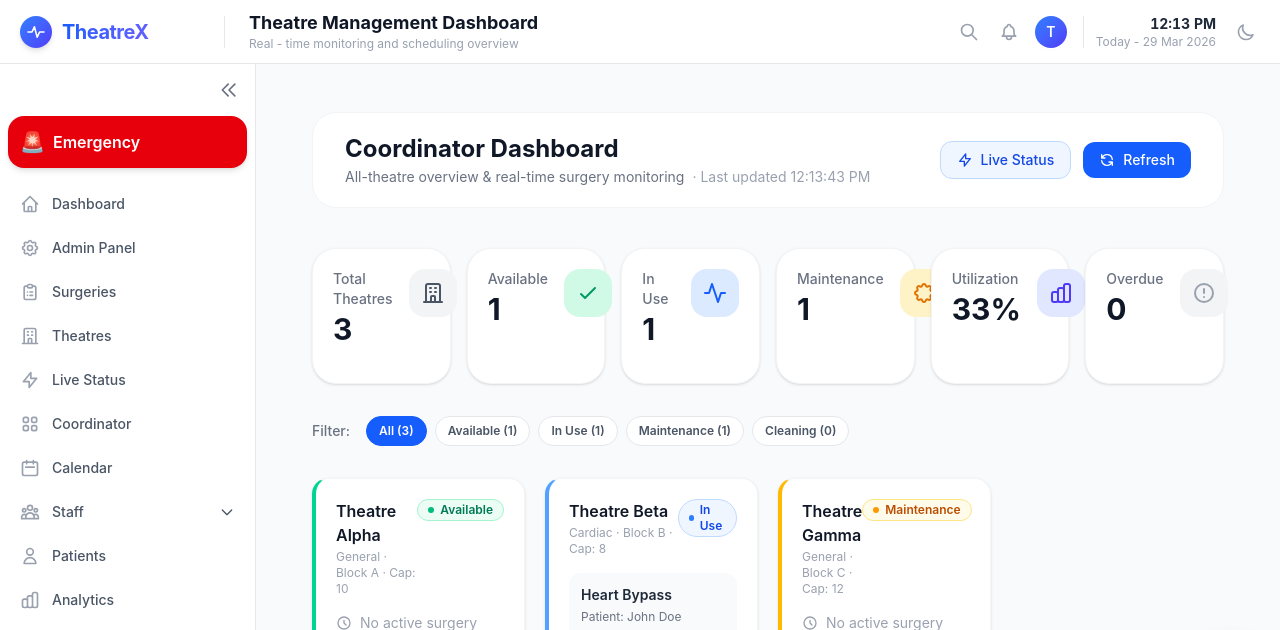
CoordinatorDashboard Page Tests - M6 Day 12 › Filter Interactions › should show only available theatres when Available filter is clicked
Check: the heading "Theatre Alpha" is shown, box [336,501,396,545]
Click the "Available" filter button specifically (not the status badge span)
Click the button "Available (1)": {"x": 483, "y": 431} [435,416,530,446]
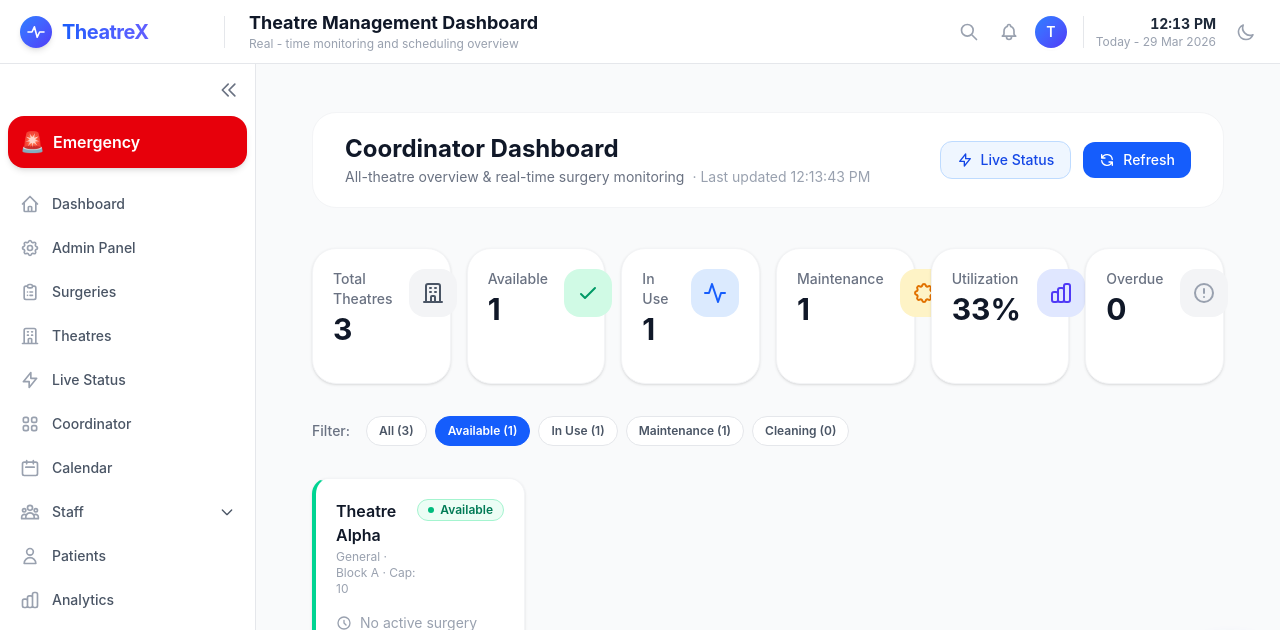
Check: the heading "Theatre Alpha" is shown, box [336,501,396,545]
Check: the heading "Theatre Beta" is gone
Check: the heading "Theatre Gamma" is gone
